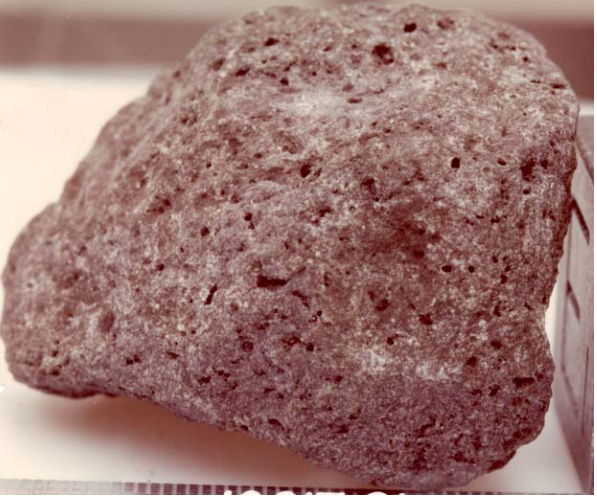Basalt: (16, 15, 574, 483), (125, 167, 459, 399)
